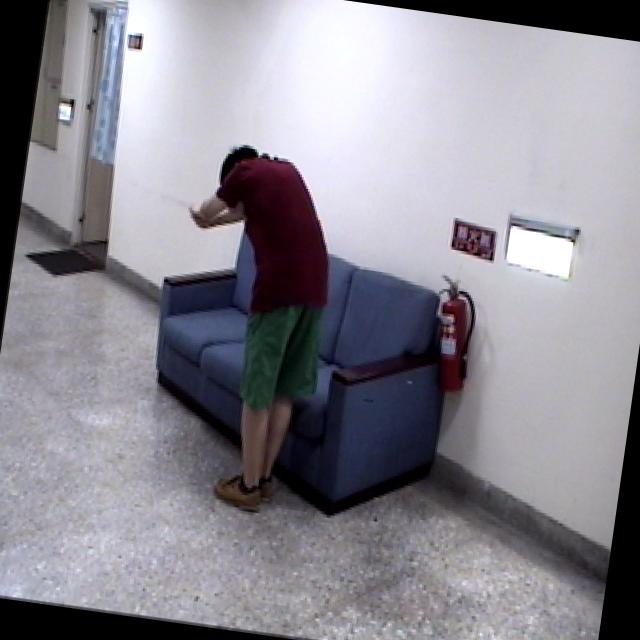bend: (136, 125, 358, 522)
